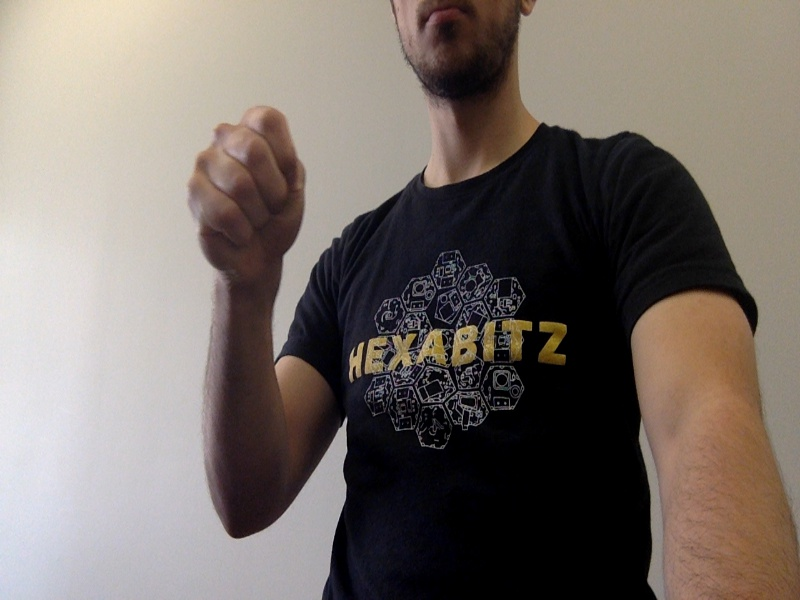0-hand: (190, 108, 306, 291)
